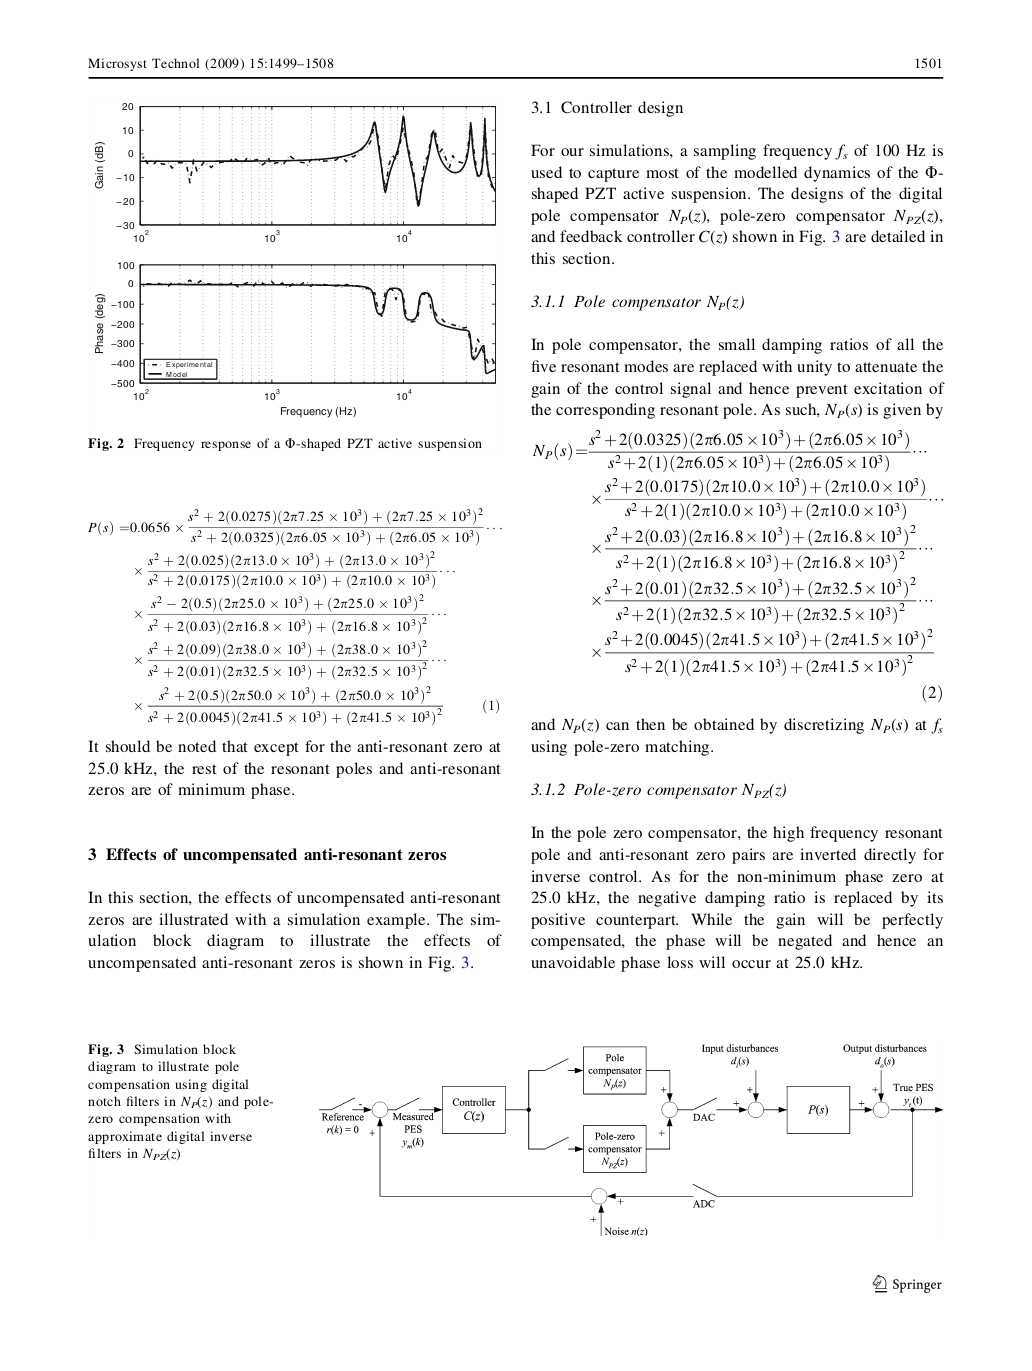figure: (319, 1044, 942, 1236), (94, 102, 495, 243), (95, 261, 495, 401)
formula: (532, 428, 926, 473), (592, 628, 933, 677), (592, 523, 932, 573), (592, 575, 932, 625), (88, 507, 501, 546), (592, 477, 943, 521), (136, 685, 498, 726), (136, 593, 446, 635), (136, 638, 446, 680), (136, 549, 454, 589)
